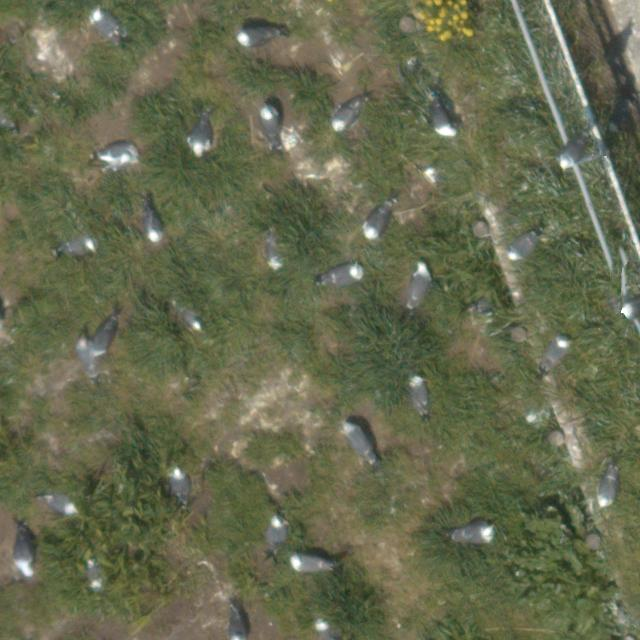umineko: (91, 309, 122, 358), (344, 423, 372, 458), (365, 206, 389, 238), (561, 145, 591, 168), (543, 337, 566, 366), (333, 104, 358, 130), (509, 233, 536, 257), (15, 538, 34, 572), (326, 264, 358, 284), (410, 265, 428, 299), (433, 107, 454, 136), (44, 495, 74, 515), (169, 469, 187, 502), (240, 27, 274, 44), (458, 523, 490, 541), (92, 12, 116, 36), (102, 142, 134, 160), (411, 379, 428, 412), (261, 108, 278, 141), (598, 472, 615, 504), (191, 121, 209, 151), (292, 554, 324, 570), (62, 236, 92, 252), (267, 515, 284, 543), (230, 612, 246, 640), (182, 308, 202, 328), (148, 213, 162, 241), (315, 620, 334, 640), (266, 238, 280, 265), (87, 562, 100, 590)
